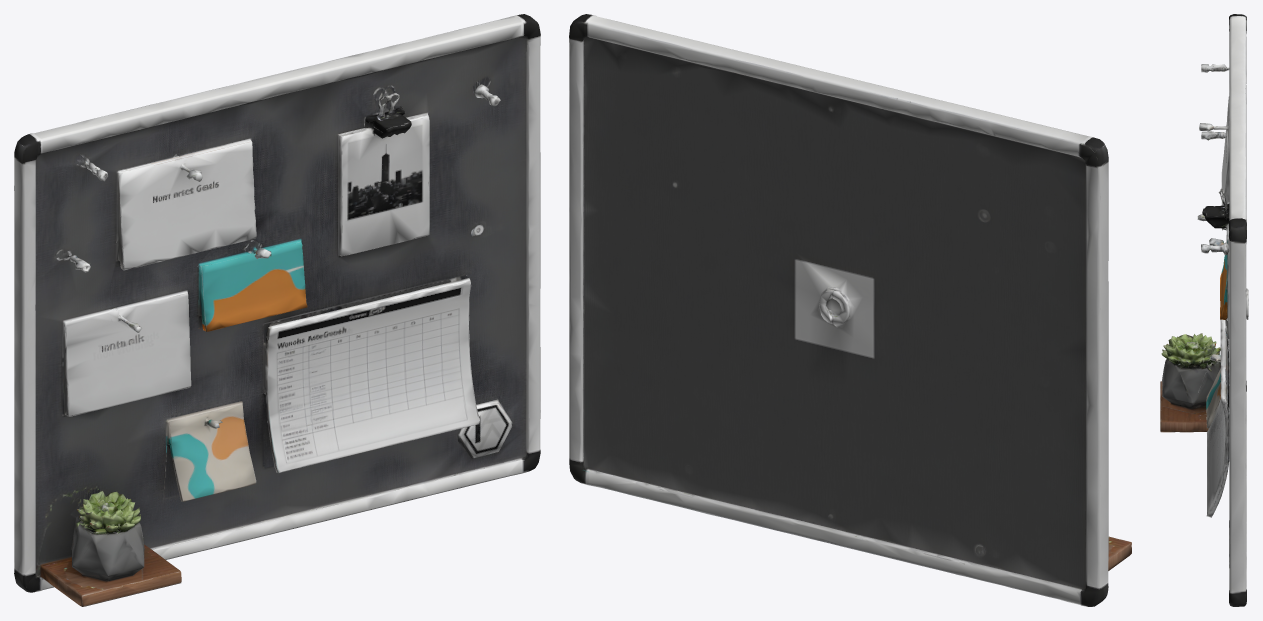
Rendered from pano.fbx.
3 views of the same model, side by side, from view 1: azimuth 30°, elevation 25°; view 2: azimuth 150°, elevation 25°; view 3: azimuth 270°, elevation 25° (orthographic). The views are drawn at different scales.
Parts seen in each view (by area): view 1: Mesh_0; view 2: Mesh_0; view 3: Mesh_0.
Part boxes in pixels (x1,y1,x2,y2): Mesh_0: (14,14,540,606); Mesh_0: (569,14,1131,606); Mesh_0: (1160,14,1248,606).
Bounding box in the file's own units: 190 × 158 × 32.89.
1 material, 1 textured.
